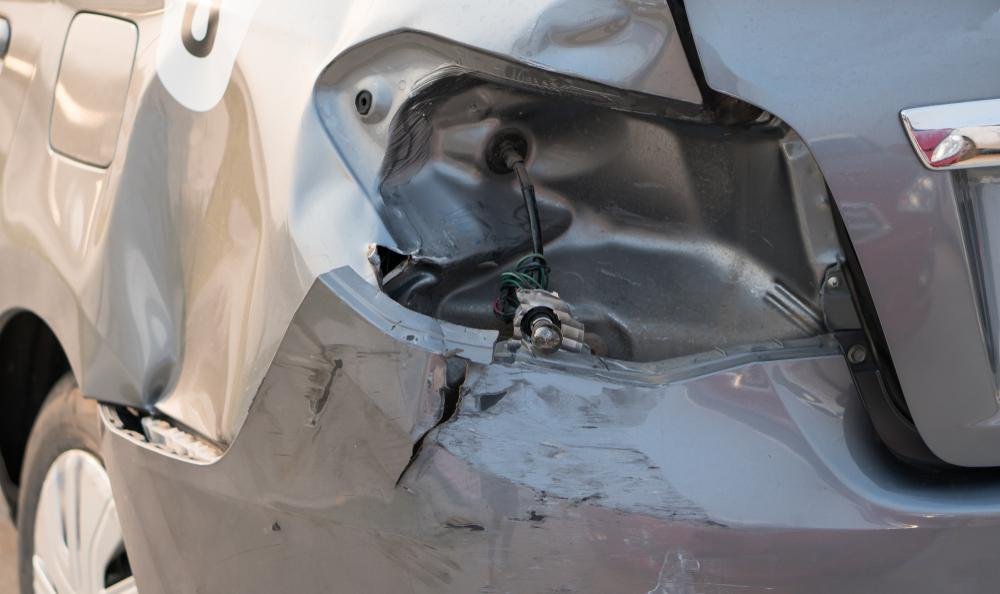crack: (399, 366, 467, 483)
dent: (104, 94, 263, 440), (513, 0, 669, 81)
scratch: (374, 365, 744, 594)
